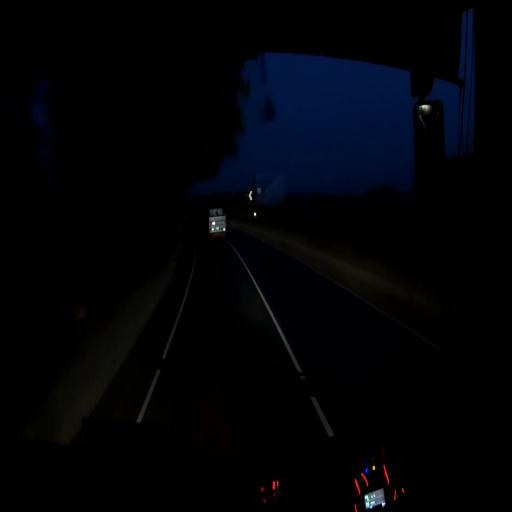pickup: (208, 208, 227, 239)
